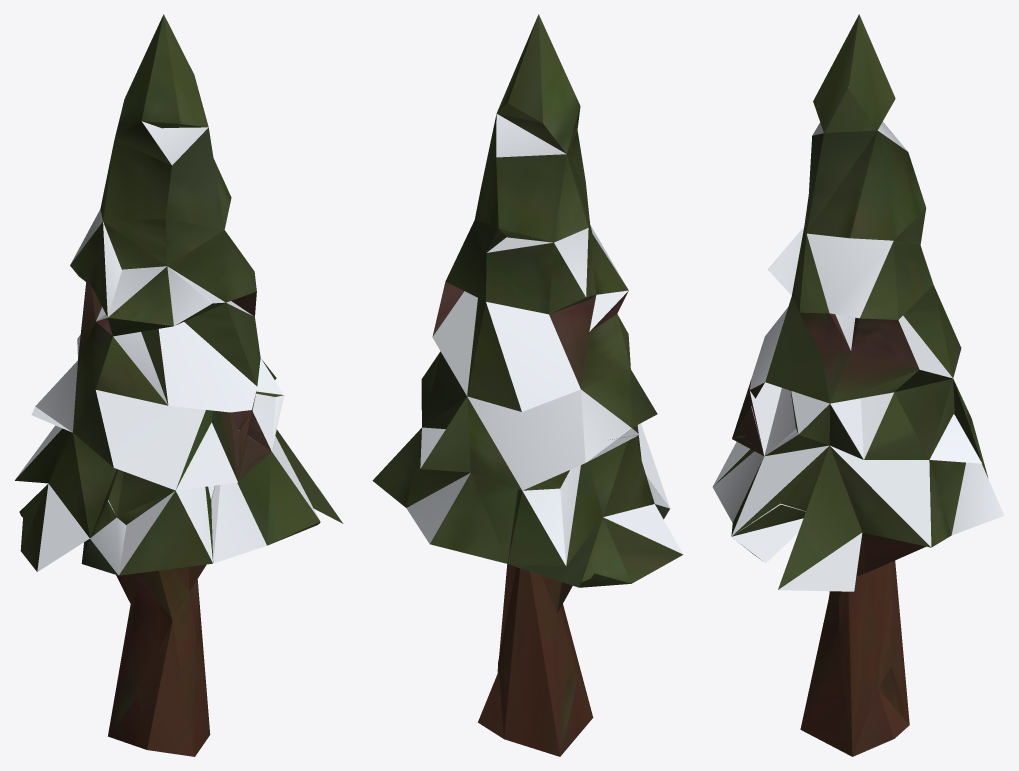
Rendered from bg_snow_pine_2_lod1.glb.
3 views of the same model, side by side, from view 1: azimuth 30°, elevation 25°; view 2: azimuth 150°, elevation 25°; view 3: azimuth 270°, elevation 25° (orthographic).
Parts seen in each view (by area): view 1: sway, body; view 2: sway, body; view 3: sway, body.
Part boxes in pixels (x1=…): sway: x1=15, y1=14, x2=343, y2=575; body: x1=78, y1=282, x2=271, y2=756; sway: x1=372, y1=14, x2=683, y2=587; body: x1=432, y1=281, x2=628, y2=756; sway: x1=712, y1=14, x2=1004, y2=591; body: x1=732, y1=312, x2=925, y2=756.
Bounding box in the file's own units: 3.25 × 7.84 × 2.87.
2 materials, 1 textured.
